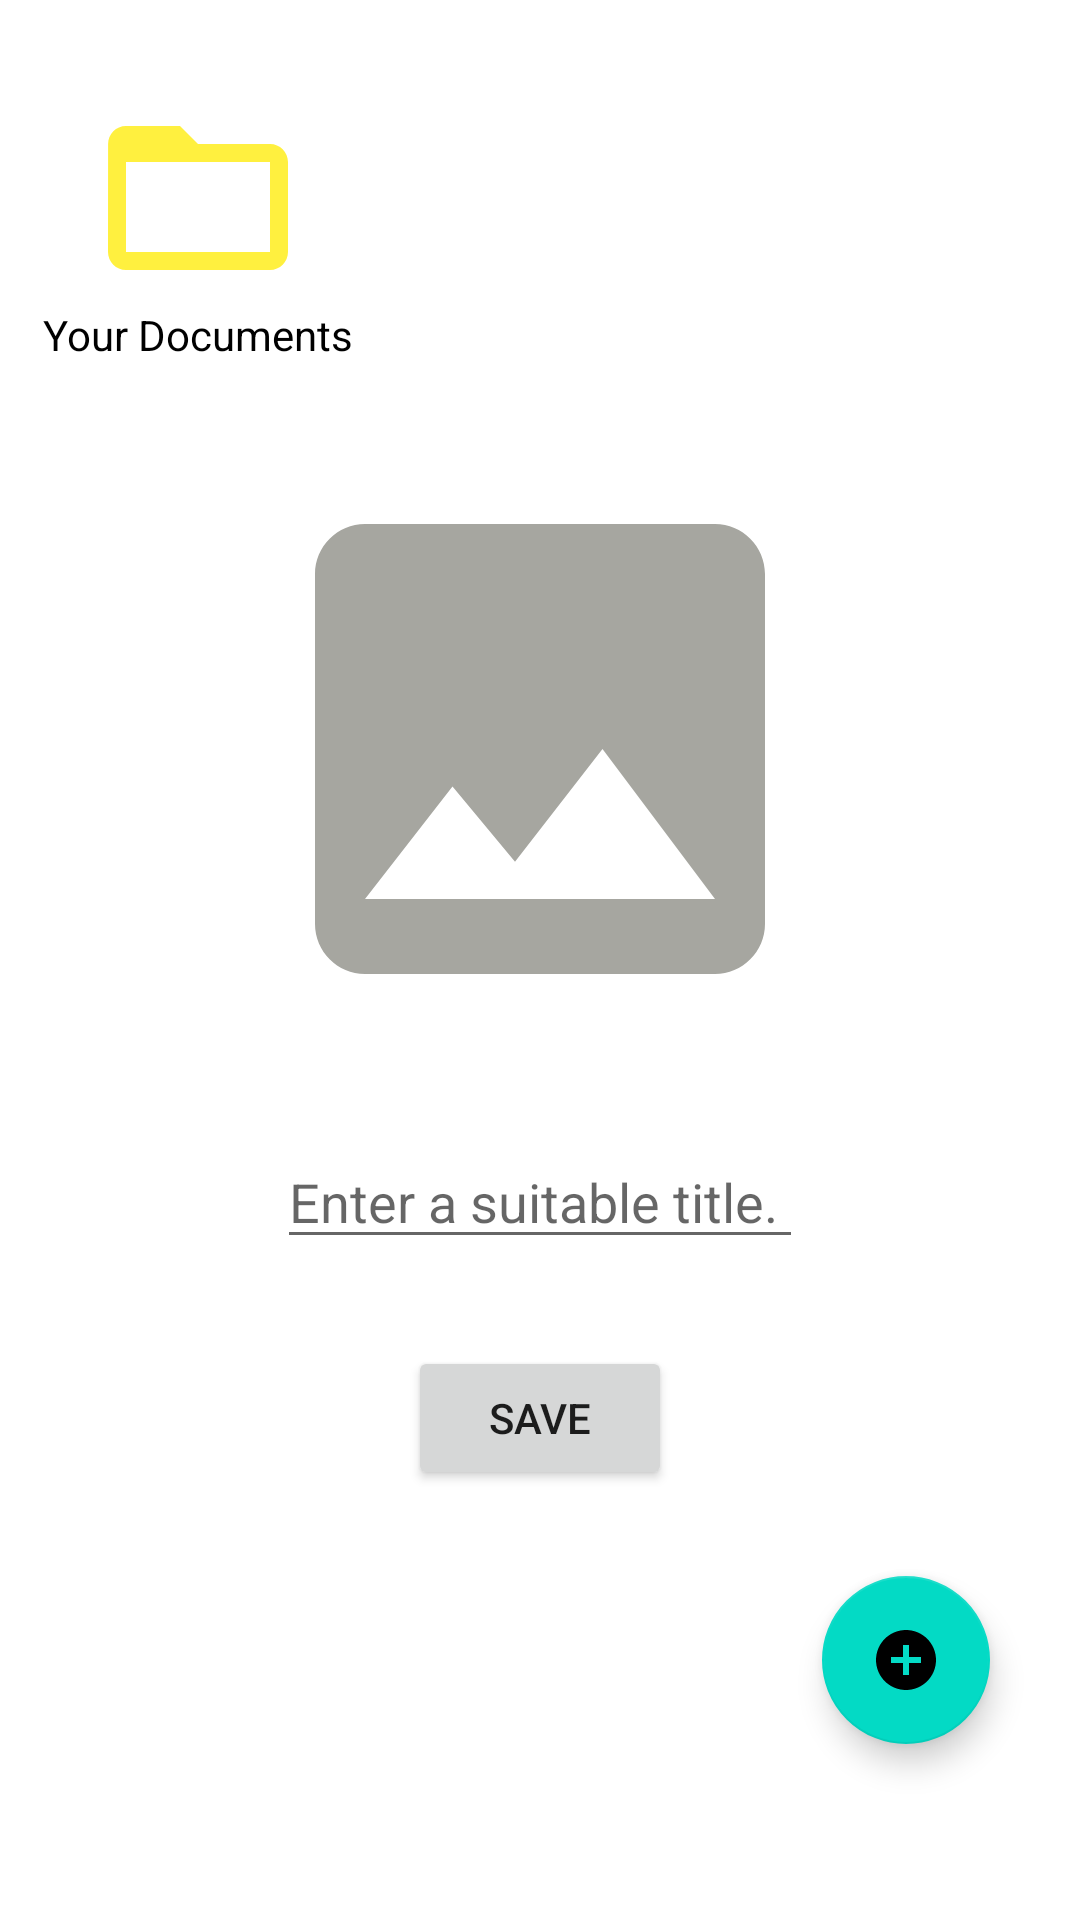

Where to tap for icons on this 1080w x 1920h app screen, as [x,y]:
floating action: [906,1660]
folder: [198,198]
